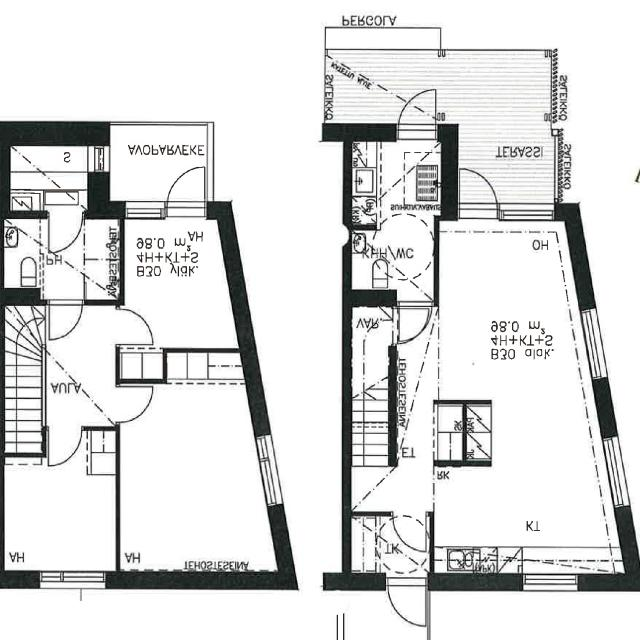door: (460, 162, 499, 221), (388, 573, 426, 632), (399, 84, 436, 142), (168, 162, 205, 220), (49, 210, 83, 256), (388, 308, 431, 344), (49, 300, 83, 341), (49, 426, 82, 467), (400, 301, 432, 341), (98, 387, 135, 420)
